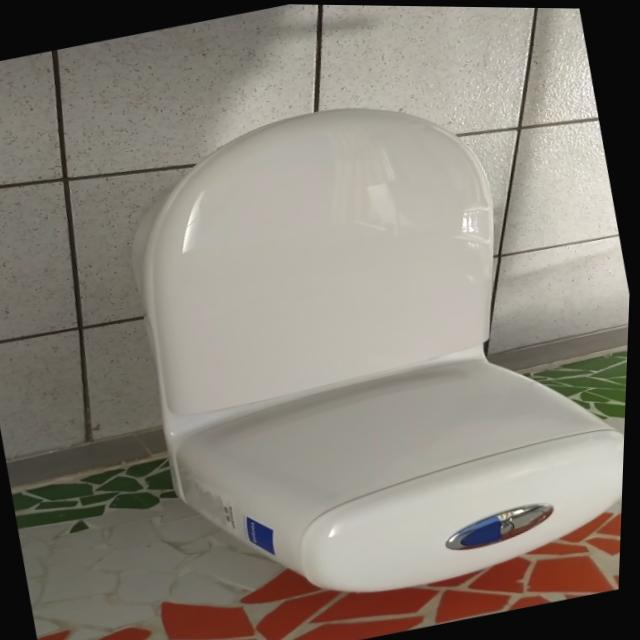toilet: (99, 54, 638, 634)
